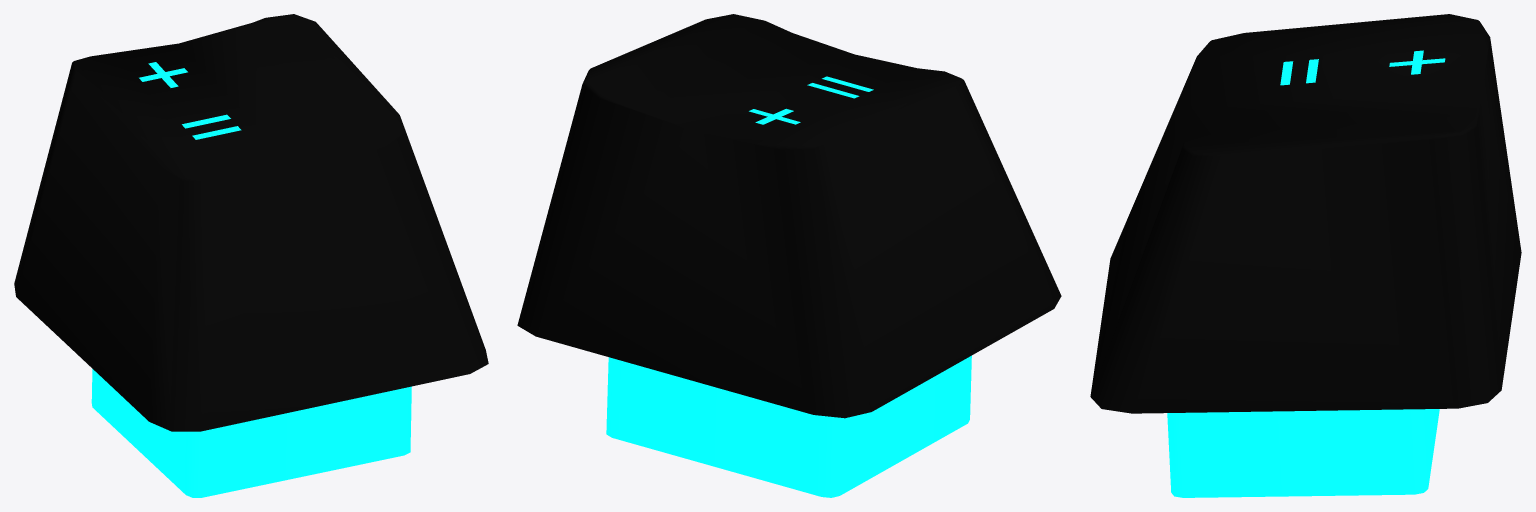
Rendered from key_7-Co61S3Ea.glb.
3 views of the same model, side by side, from view 1: azimuth 30°, elevation 25°; view 2: azimuth 150°, elevation 25°; view 3: azimuth 270°, elevation 25° (orthographic). The views are drawn at different scales.
Parts seen in each view (by area): view 1: StudyShelf_688; view 2: StudyShelf_688; view 3: StudyShelf_688.
Boxes of the visible parts, box(x1,y1,x2,y2) form: StudyShelf_688: box(14, 14, 488, 497); StudyShelf_688: box(517, 14, 1061, 497); StudyShelf_688: box(1090, 14, 1521, 497).
Bounding box in the file's own units: 4.35 × 4.15 × 4.35.
